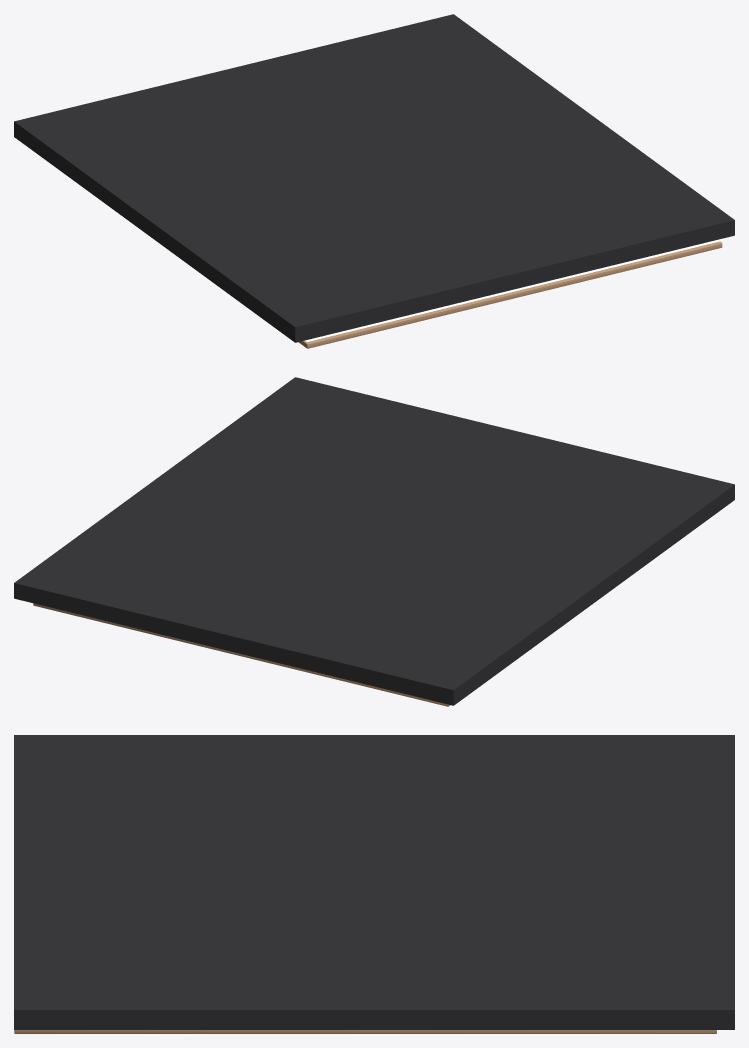
File: ceiling_DD304.glb
3 renders of one model, top to bottom at view 1: azimuth 30°, elevation 25°; view 2: azimuth 150°, elevation 25°; view 3: azimuth 270°, elevation 25°, orthographic. The views are drawn at different scales.
Parts seen in each view (by area): view 1: Ceiling_Shell, Ceiling_Plate, Ceiling_Glow; view 2: Ceiling_Shell, Ceiling_Plate; view 3: Ceiling_Shell, Ceiling_Plate.
Boxes of the visible parts, <box> form: Ceiling_Shell: <box>14,14,734,342</box>; Ceiling_Plate: <box>298,241,722,348</box>; Ceiling_Glow: <box>305,239,722,341</box>; Ceiling_Shell: <box>14,377,734,705</box>; Ceiling_Plate: <box>33,603,450,706</box>; Ceiling_Shell: <box>14,735,734,1029</box>; Ceiling_Plate: <box>14,1030,716,1033</box>.
Bounding box in the file's own units: 1.48 × 0.08 × 1.64.
